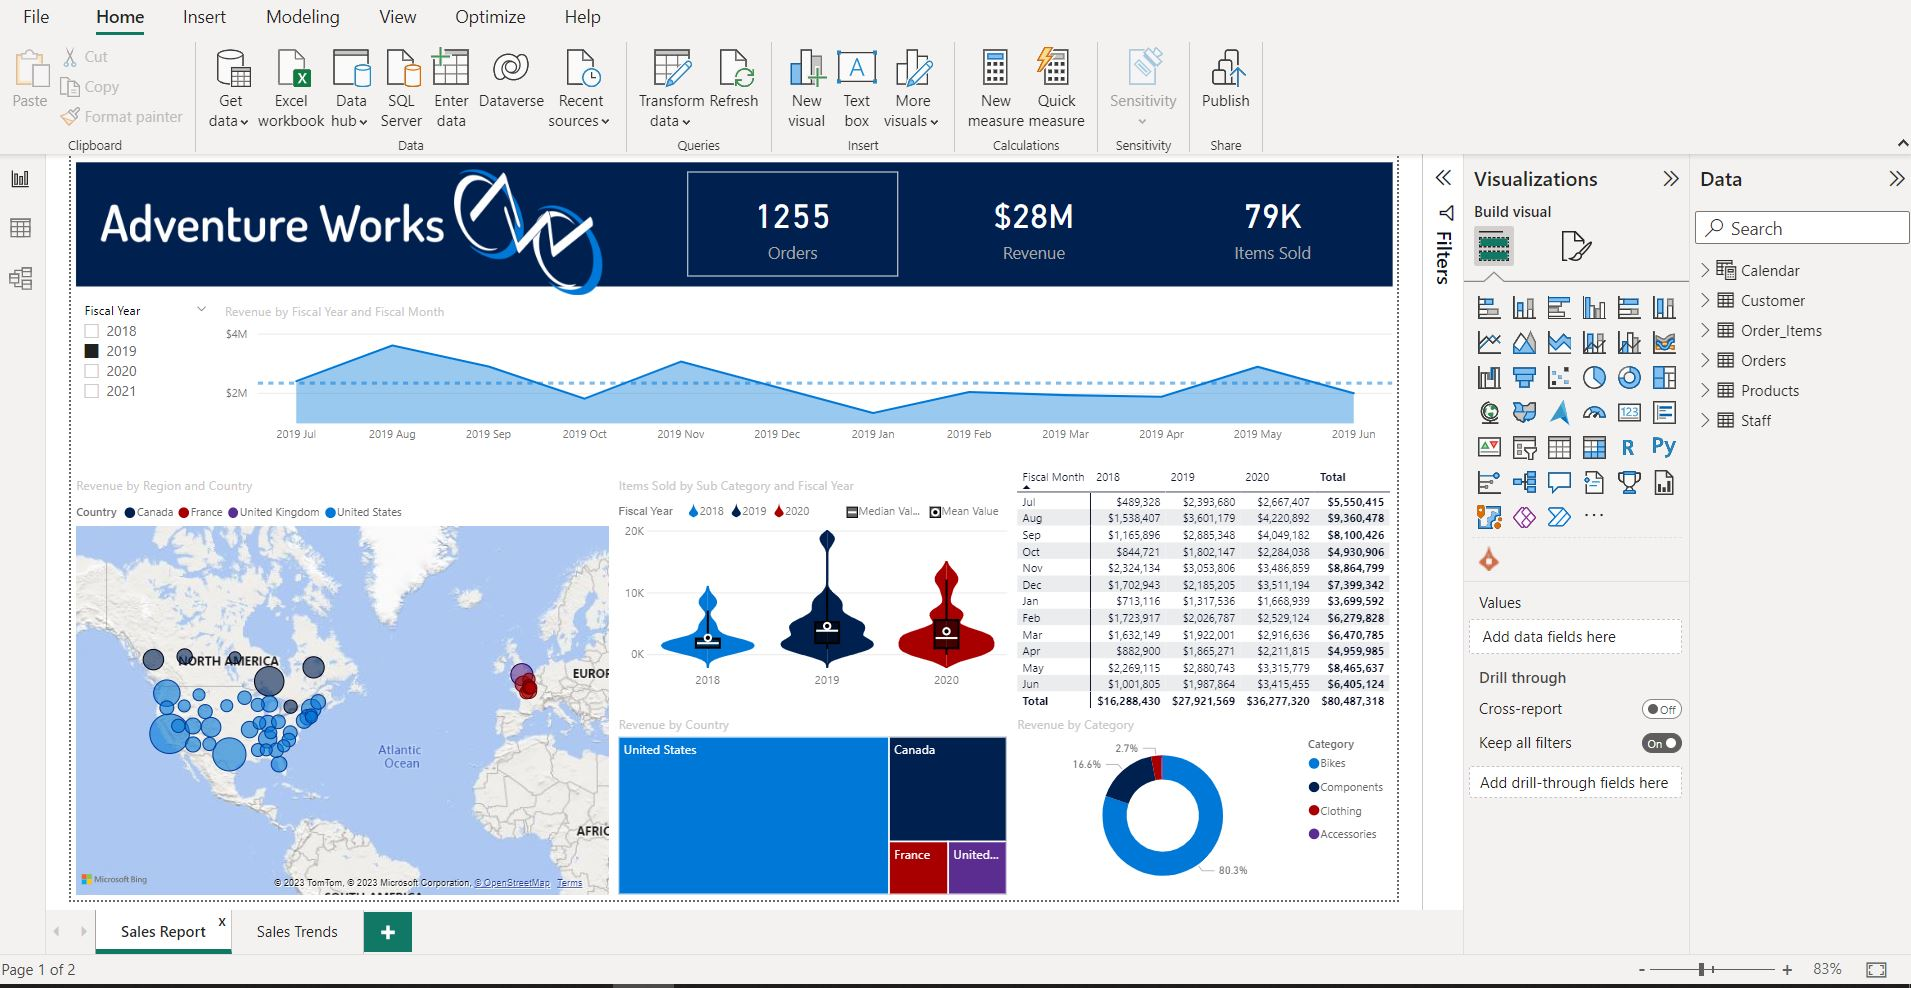

What the dashboard file says about the page in this screenshot:
{"tool":"powerbi","page":{"name":"Sales Report","canvas":[1280,720],"ordinal":0},"visuals":[{"type":"map","fields":{"Size":["Order_Items.Revenue"],"Series":["Customer.Country"],"Category":["Customer.Region"]},"box":[0,310.7,523.6,408.4],"z":0},{"type":"treemap","fields":{"Group":["Customer.Country"],"Values":["Order_Items.Revenue"]},"box":[523.6,541.1,384,178],"z":1000},{"type":"areaChart","fields":{"Y":["Order_Items.Revenue"],"Category":["Calendar.Fiscal Date.Fiscal Year","Calendar.Fiscal Date.Fiscal Month","Calendar.Fiscal Date.Day"]},"box":[143.6,143.6,1136.4,143.6],"z":2000},{"type":"pivotTable","fields":{"Values":["Order_Items.Revenue"],"Rows":["Calendar.Fiscal Month"],"Columns":["Calendar.Fiscal Year"]},"box":[907.6,297.9,372.4,243.2],"z":3000},{"type":"image","box":[0,0,1280,143.1],"z":4000},{"type":"card","fields":{"Values":["Order_Items.Orders"]},"box":[594.6,16.3,203.6,102.4],"z":5000},{"type":"card","fields":{"Values":["Order_Items.Revenue"]},"box":[827.3,16.3,203.6,102.4],"z":6000},{"type":"card","fields":{"Values":["Order_Items.Items Sold"]},"box":[1057.7,16.3,203.6,102.4],"z":7000},{"type":"violinPlot4D46EB9EB3A141D9BA2289793175D971","fields":{"sampling":["Products.Sub Category"],"measure":["Order_Items.Items Sold"],"category":["Calendar.Fiscal Year"]},"box":[523.6,310.7,384,214.1],"z":8000},{"type":"donutChart","fields":{"Y":["Order_Items.Revenue"],"Category":["Products.Category"]},"box":[907.6,541.1,372.4,178],"z":9000},{"type":"slicer","fields":{"Values":["Calendar.Fiscal Year"]},"box":[0,137.8,143.6,160],"z":10000}]}

Visuals, with their boxes on the page's 1280x720 design canvas (x1, y1, x2, y2). These are canvas units, not pixel positions in the 1911x988 screenshot, which may show the page scaled, cropped or inside an application window:
map - Order_Items.Revenue x Customer.Country: bbox(0, 311, 524, 719)
treemap - Customer.Country x Order_Items.Revenue: bbox(524, 541, 908, 719)
areaChart - Order_Items.Revenue x Calendar.Fiscal Date.Fiscal Year: bbox(144, 144, 1280, 287)
pivotTable - Order_Items.Revenue x Calendar.Fiscal Month: bbox(908, 298, 1280, 541)
image: bbox(0, 0, 1280, 143)
card - Order_Items.Orders: bbox(595, 16, 798, 119)
card - Order_Items.Revenue: bbox(827, 16, 1031, 119)
card - Order_Items.Items Sold: bbox(1058, 16, 1261, 119)
violinPlot4D46EB9EB3A141D9BA2289793175D971 - Products.Sub Category x Order_Items.Items Sold: bbox(524, 311, 908, 525)
donutChart - Order_Items.Revenue x Products.Category: bbox(908, 541, 1280, 719)
slicer - Calendar.Fiscal Year: bbox(0, 138, 144, 298)
